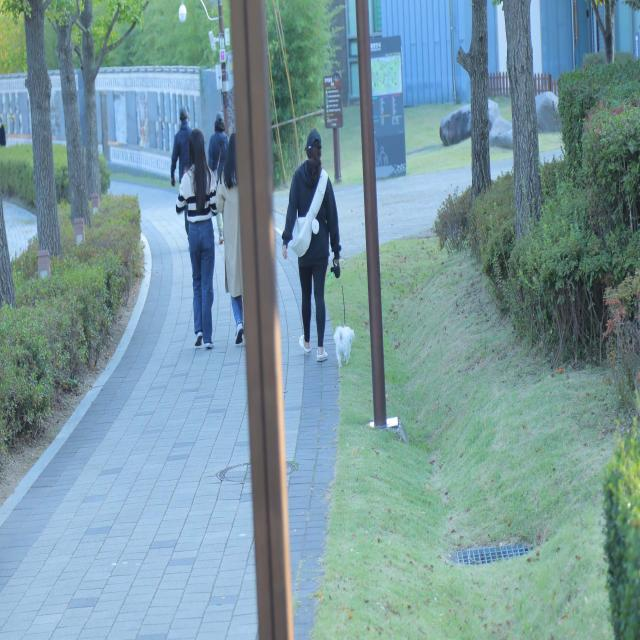Leashed_Dog: (316, 241, 356, 370)
